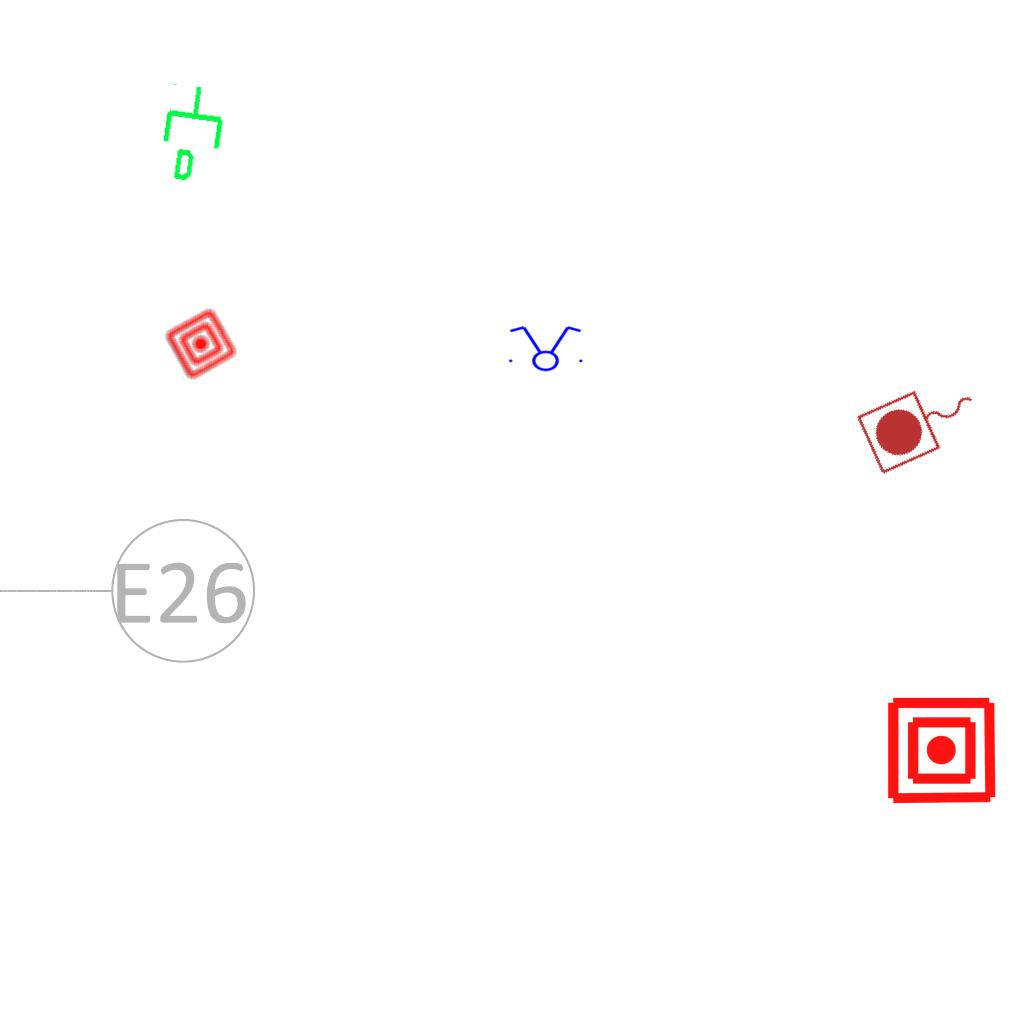Datenanschluss_einfach: (153, 79, 236, 189)
NAM-Nichtautomatischer_Melder: (885, 694, 998, 807), (162, 305, 240, 383)
Serienschalter: (503, 324, 587, 372)
Zugtaster: (851, 365, 993, 481)
